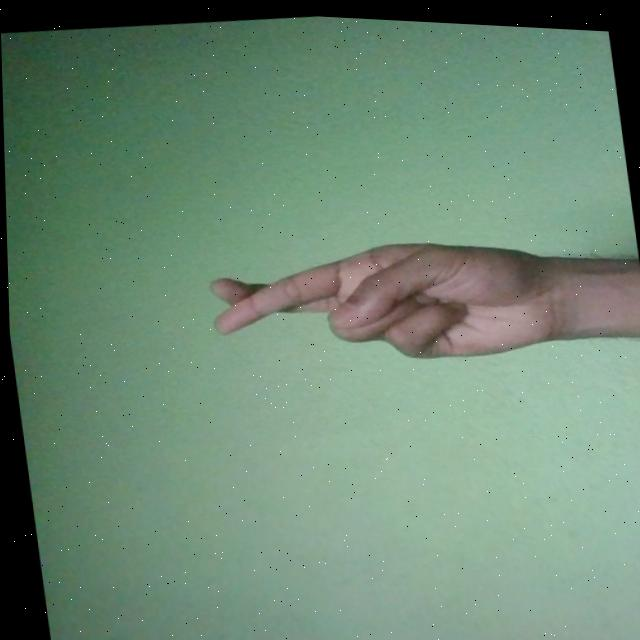Good Luck: (201, 213, 564, 382)
